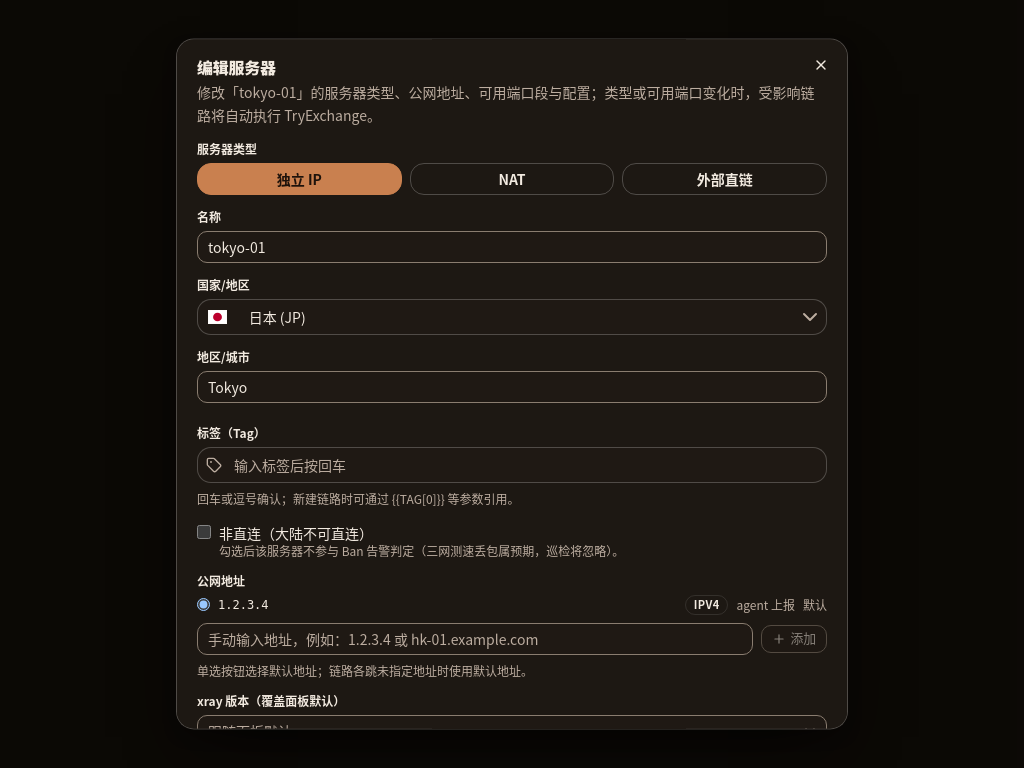
Scenario: ServerEditDialog › switches managed direct server to nat and external with appropriate notices and fields
Click the radio button named "edit-server-type": (512,179) [410, 163, 614, 195]
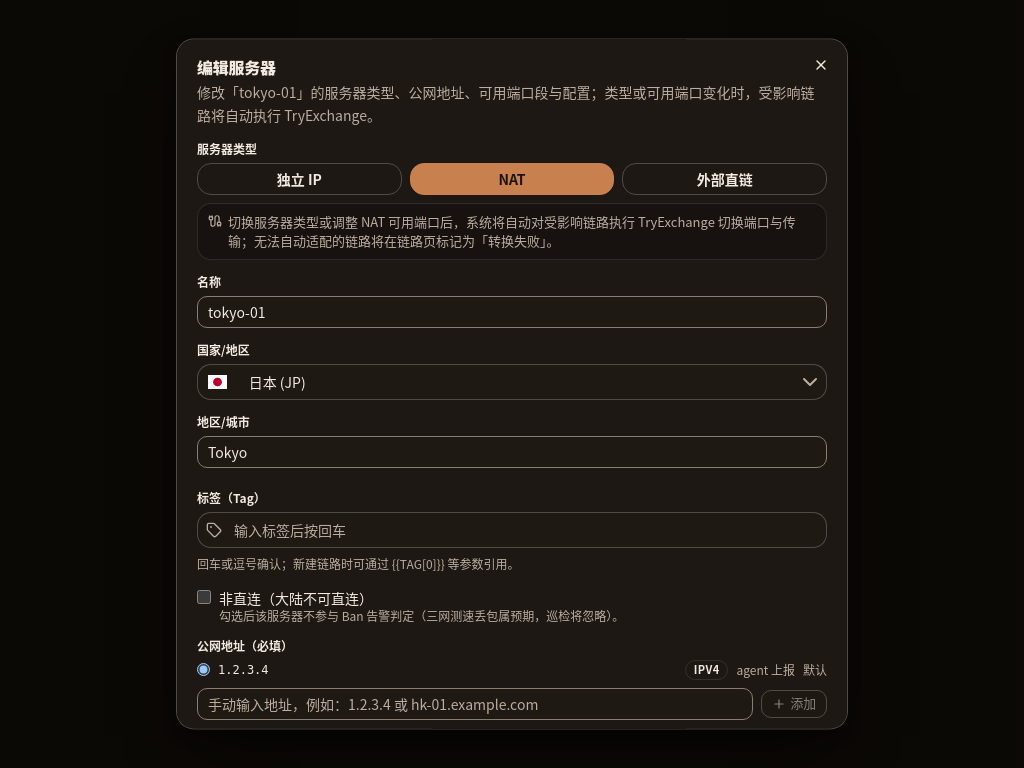
Check: the text "TryExchange" is shown, box [197, 82, 814, 125]
Click the radio button named "edit-server-type": (725,179) [622, 163, 827, 195]
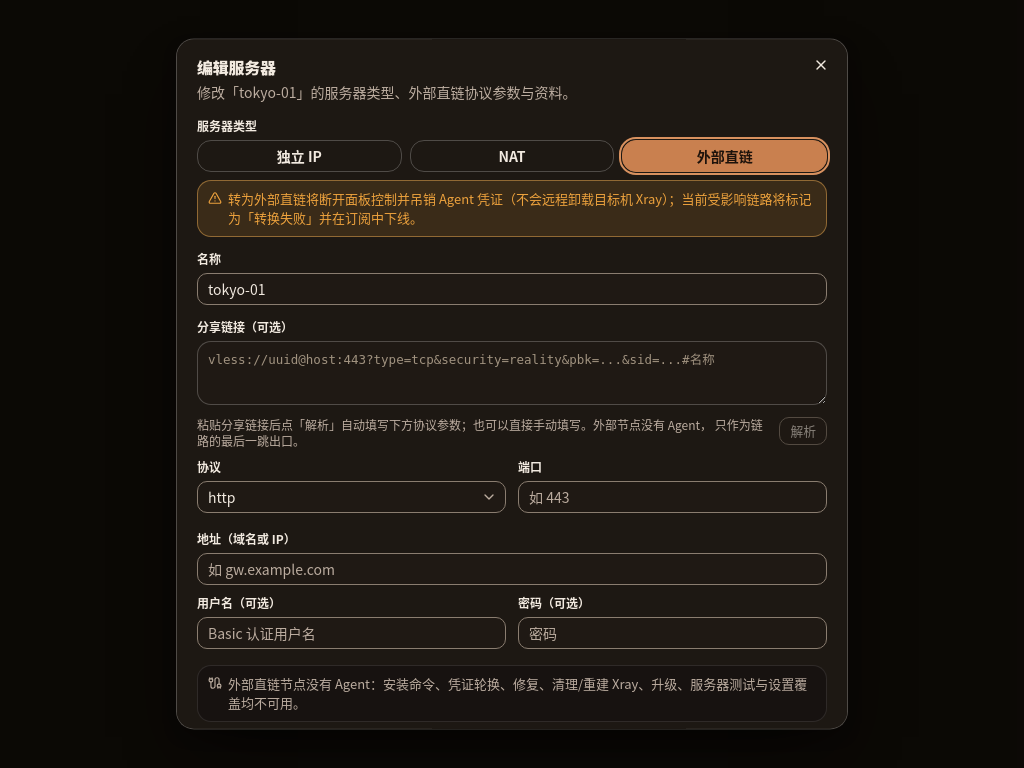
Check: the text "断开面板控制并吊销 Agent 凭证" is shown, box [228, 189, 812, 228]
Check: the text box with id "editExternal-link" is shown, box [197, 341, 827, 405]
